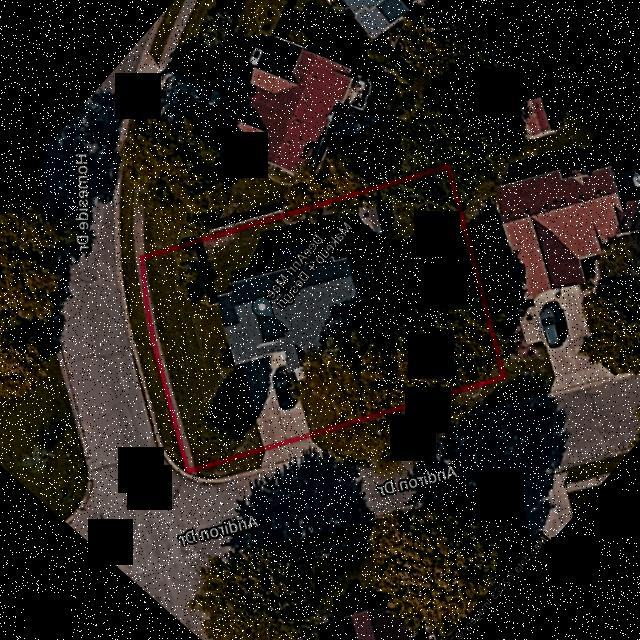Driveway: (243, 355, 308, 445)
Extra Driveway: (262, 438, 320, 465)
Extra Lawn: (122, 257, 179, 464), (191, 454, 263, 478), (454, 382, 508, 412)
House: (218, 237, 360, 370)
Other: (355, 196, 384, 239)
